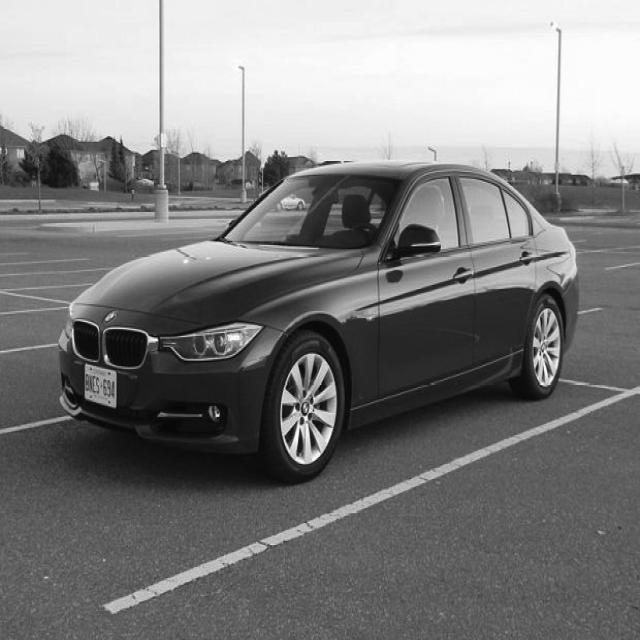car: (57, 158, 580, 484)
plat_license: (82, 363, 118, 409)
